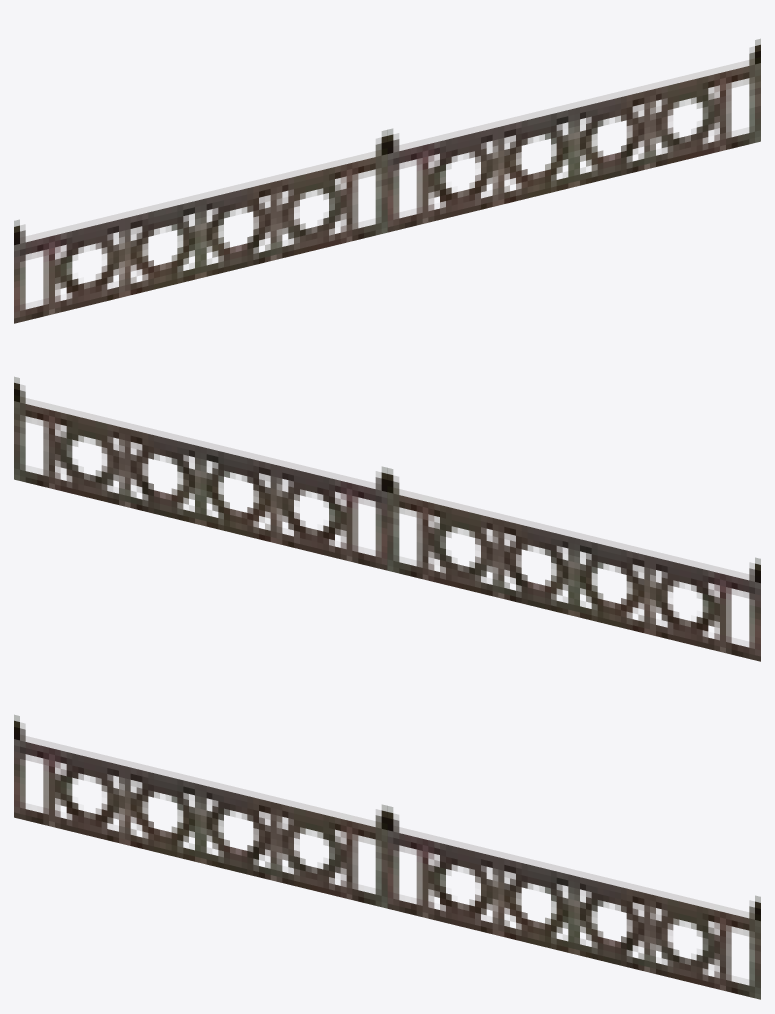
The model's file is kenney-retro-fantasy-fence-top.glb.
The picture shows the model from 3 angles, top to bottom: view 1: azimuth 30°, elevation 25°; view 2: azimuth 150°, elevation 25°; view 3: azimuth 330°, elevation 25°; orthographic projection.
Visible parts, largest first — view 1: fence-top; view 2: fence-top; view 3: fence-top.
Part boxes in pixels (x1,y1,x2,y2): fence-top: (14, 39, 760, 323); fence-top: (14, 377, 760, 661); fence-top: (14, 715, 760, 999).
Bounding box in the file's own units: 1 × 0.163 × 0.
1 material, 1 textured.
